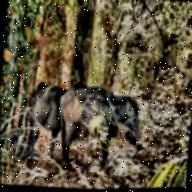boar: (49, 78, 163, 174)
